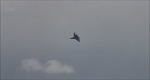maybay_muctieu: (70, 32, 80, 43)
